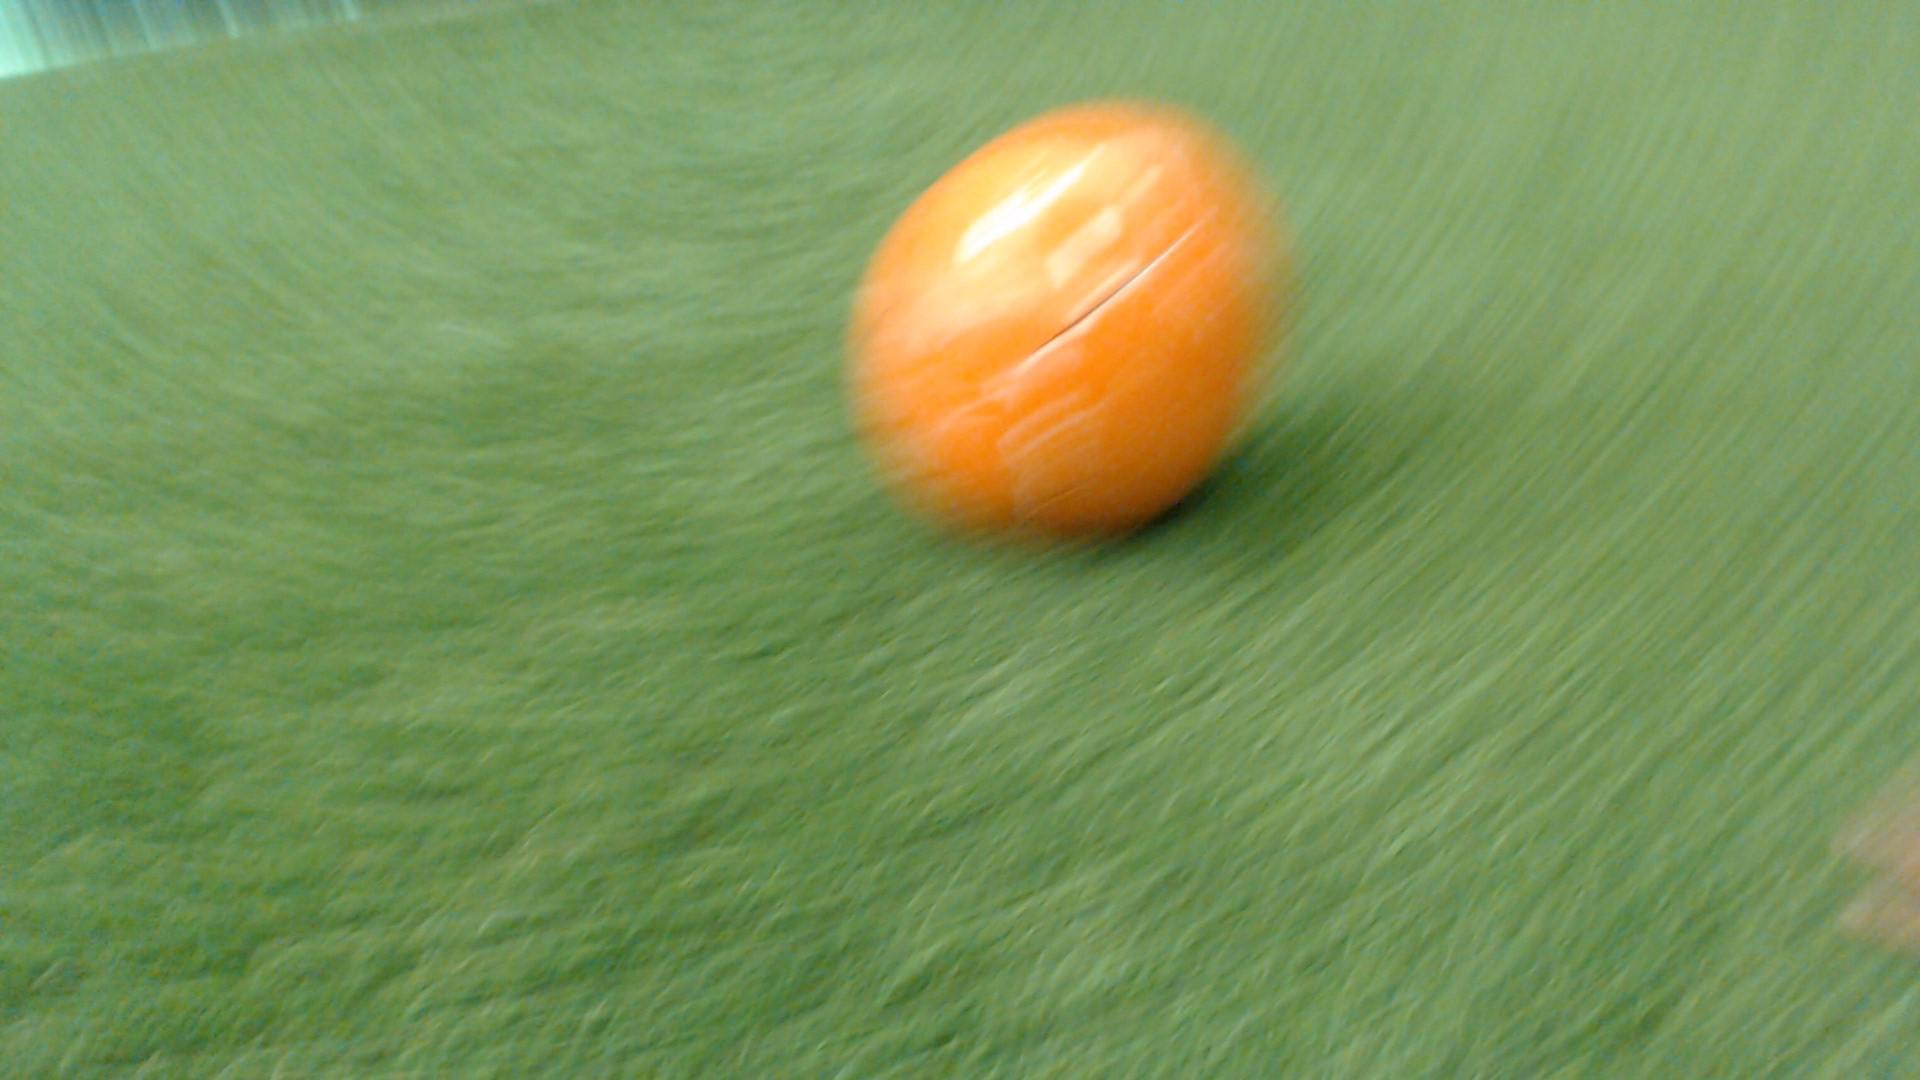bola: (861, 102, 1303, 553)
